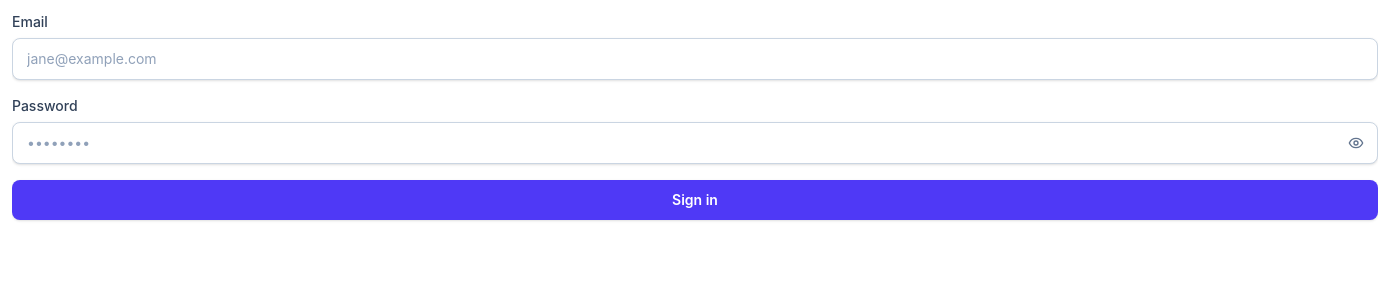
Test: SigninForm › shows inline validation errors when an empty form is submitted
The width and height of the screenshot is (1390, 282).
Click the button "Sign in" at (695, 200), box x1=12 y1=180 x2=1378 y2=220
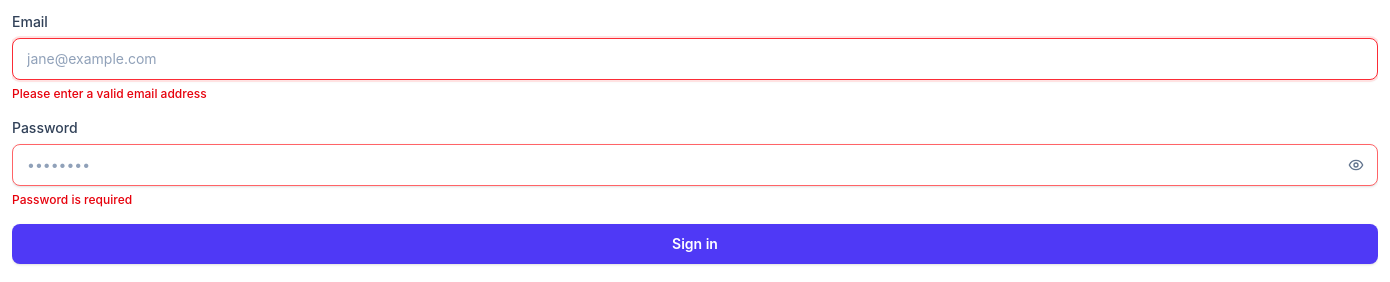
expect the text "Please enter a valid email address" is shown: met, box x1=12 y1=86 x2=207 y2=101
expect the text "Password is required" is shown: met, box x1=12 y1=192 x2=132 y2=207
